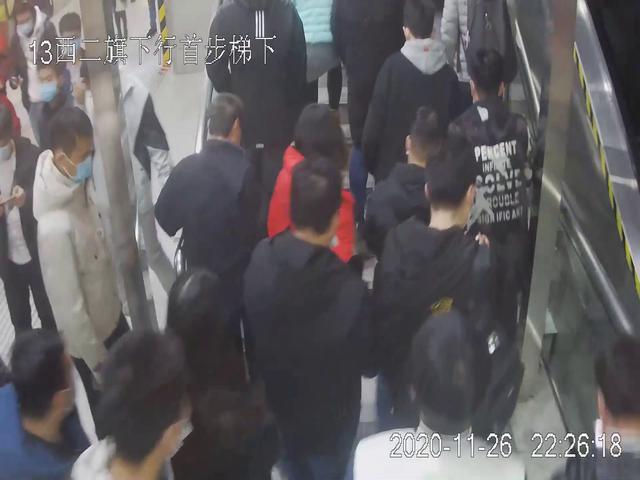person: (240, 152, 383, 480), (374, 137, 522, 441), (31, 105, 144, 449), (149, 89, 272, 345), (442, 40, 536, 367), (364, 2, 463, 252)
